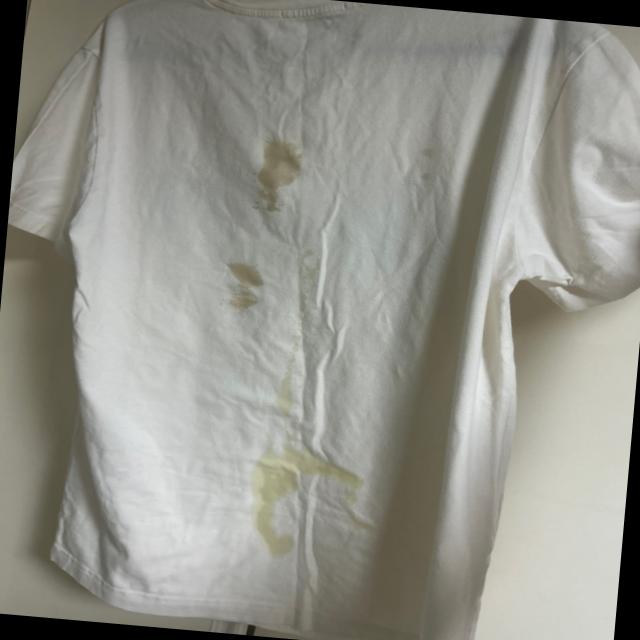stain: (230, 438, 396, 574), (259, 248, 328, 438), (238, 128, 308, 219), (206, 240, 273, 314), (389, 138, 453, 190)
